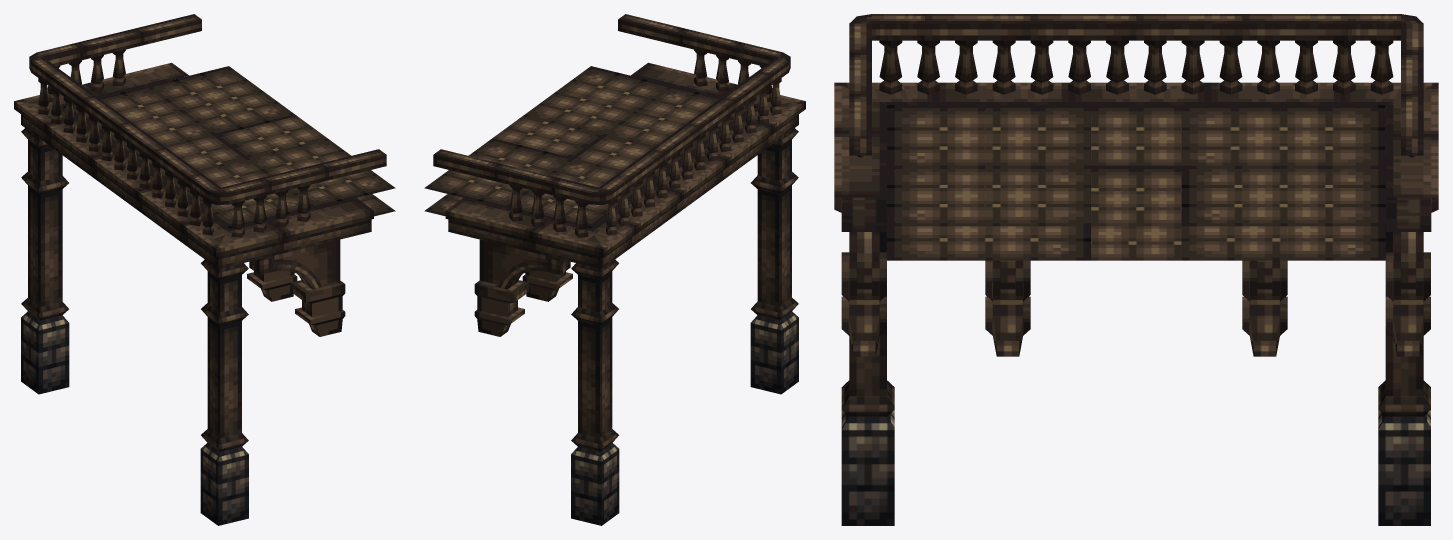
File: EnvBdgMD_City_D_Outdoor_Terrace_B.FBX
3 renders of one model, left to right at view 1: azimuth 30°, elevation 25°; view 2: azimuth 150°, elevation 25°; view 3: azimuth 270°, elevation 25°, orthographic. The views are drawn at different scales.
Parts seen in each view (by area): view 1: EnvBdgMD_City_D_Outdoor_Terrace_B; view 2: EnvBdgMD_City_D_Outdoor_Terrace_B; view 3: EnvBdgMD_City_D_Outdoor_Terrace_B.
Boxes of the visible parts, x1,y1,x2,y2 form: EnvBdgMD_City_D_Outdoor_Terrace_B: (14, 14, 395, 525); EnvBdgMD_City_D_Outdoor_Terrace_B: (424, 14, 805, 525); EnvBdgMD_City_D_Outdoor_Terrace_B: (834, 14, 1438, 525).
Bounding box in the file's own units: 225 × 357 × 400.
